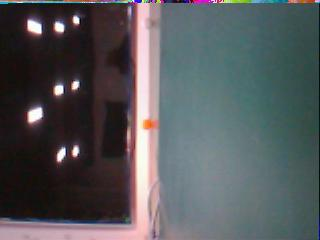oball: (142, 117, 151, 130)
